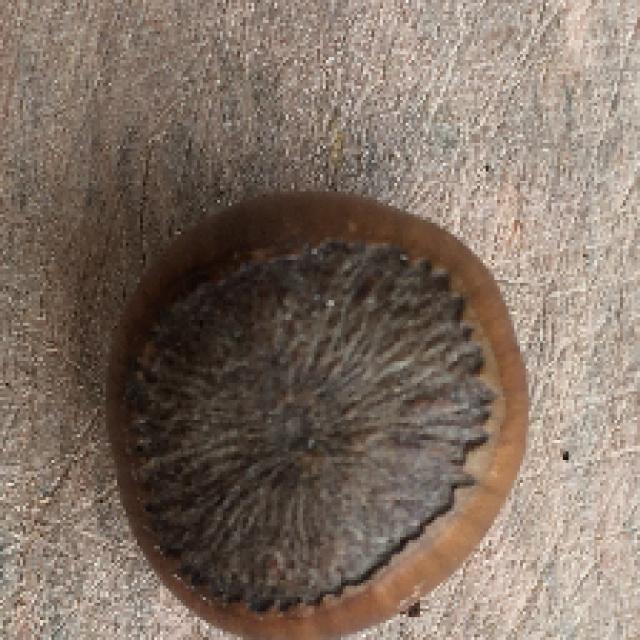damagedHazelnut: (87, 183, 536, 640)
